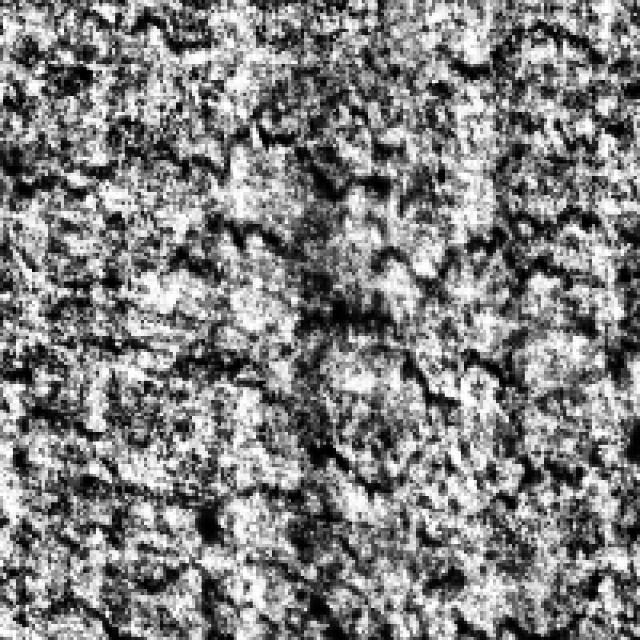Pitted_Surface: (314, 9, 640, 563), (54, 45, 512, 298), (73, 288, 470, 538)
